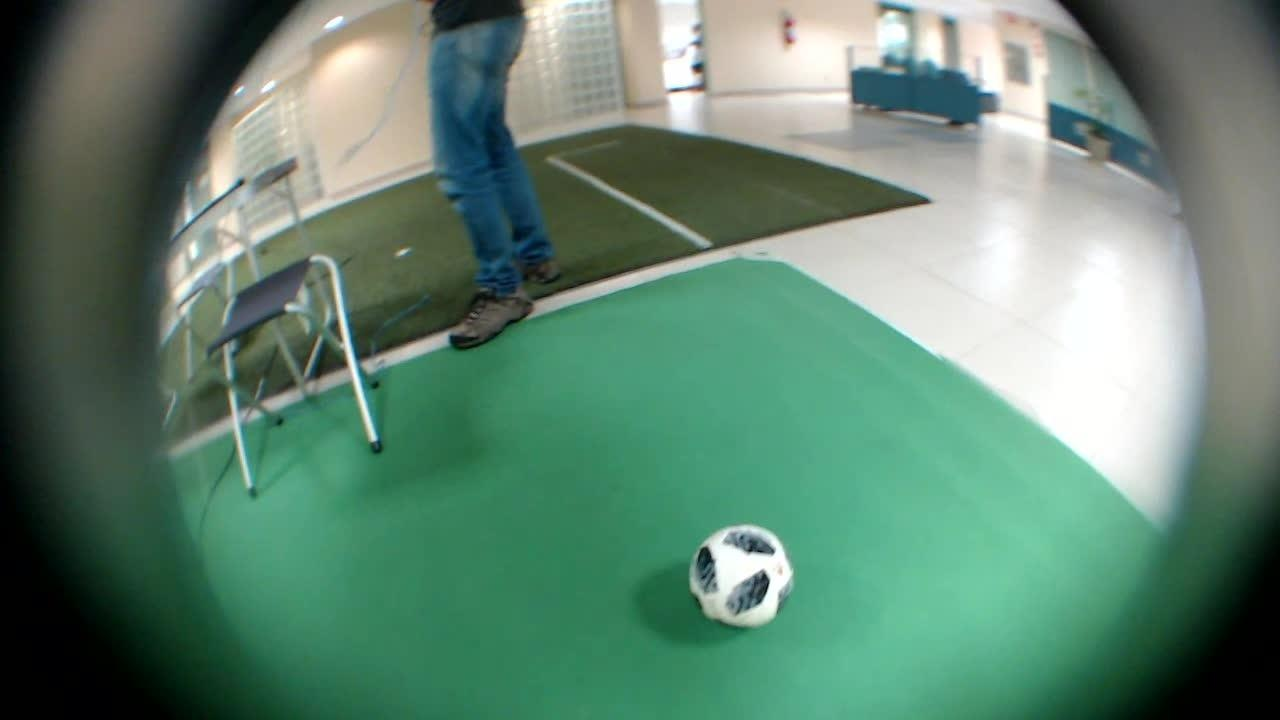ball: (667, 510, 814, 643)
